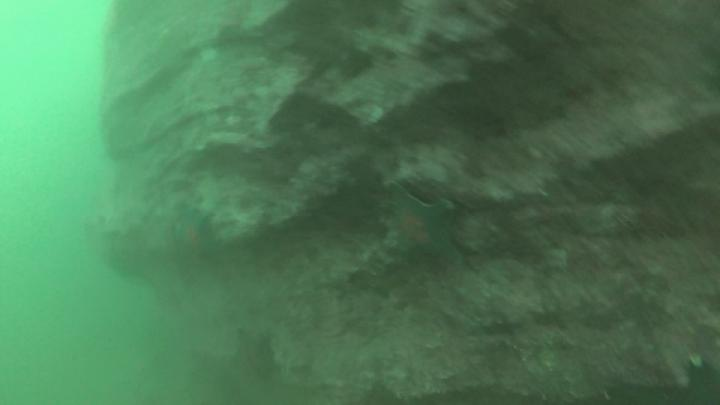starfish: (374, 178, 466, 272), (167, 203, 222, 272), (229, 325, 282, 389)
